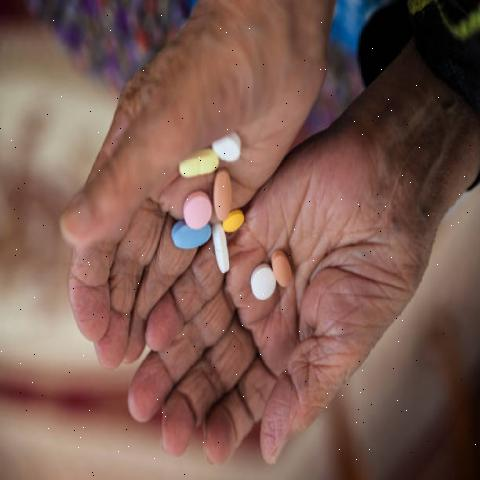Pill: (242, 259, 280, 307), (208, 218, 235, 284), (212, 122, 248, 166)
